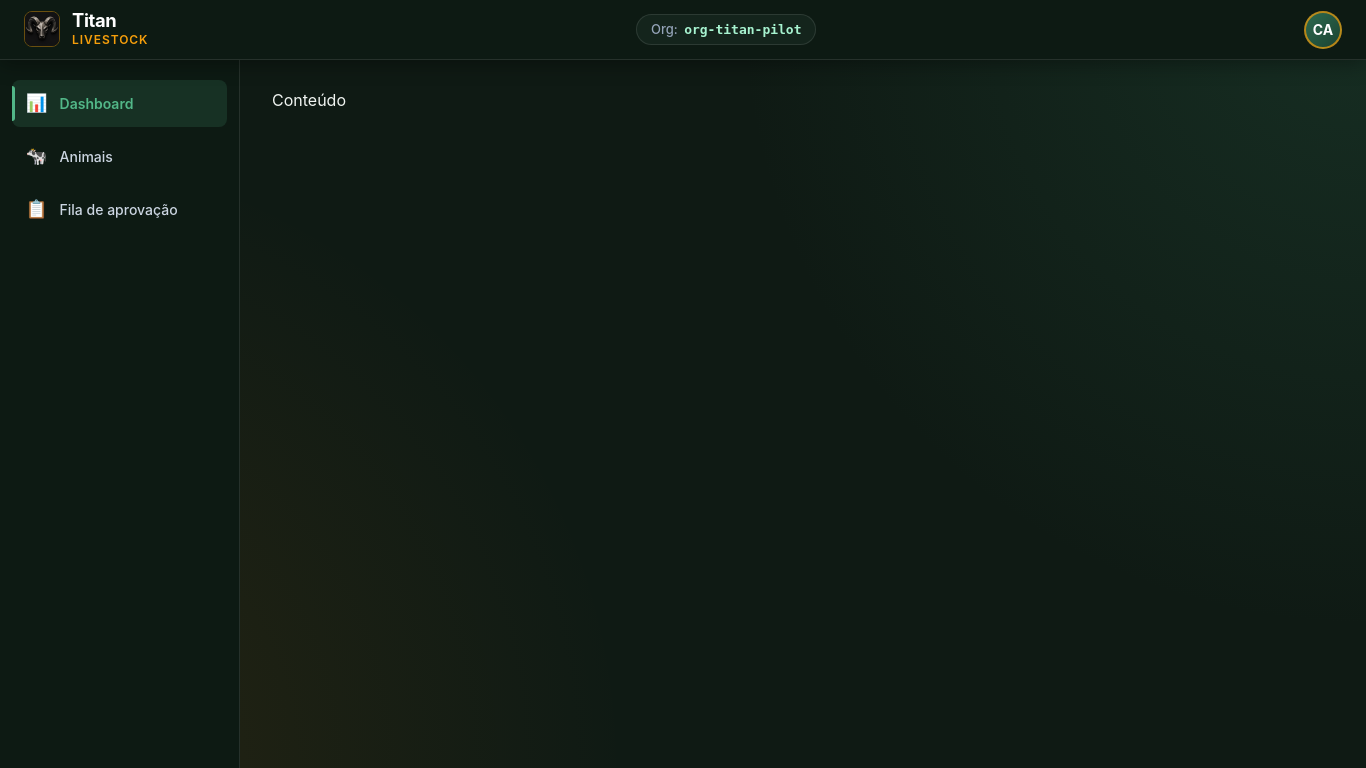
Test case: ApplicationShell › fecha o UserAccountMenu ao pressionar a tecla Escape
The image size is (1366, 768).
Click the button with aria-label "Menu do usuário: Carlos Silva".
click(1323, 30)  # box [1304, 10, 1342, 48]
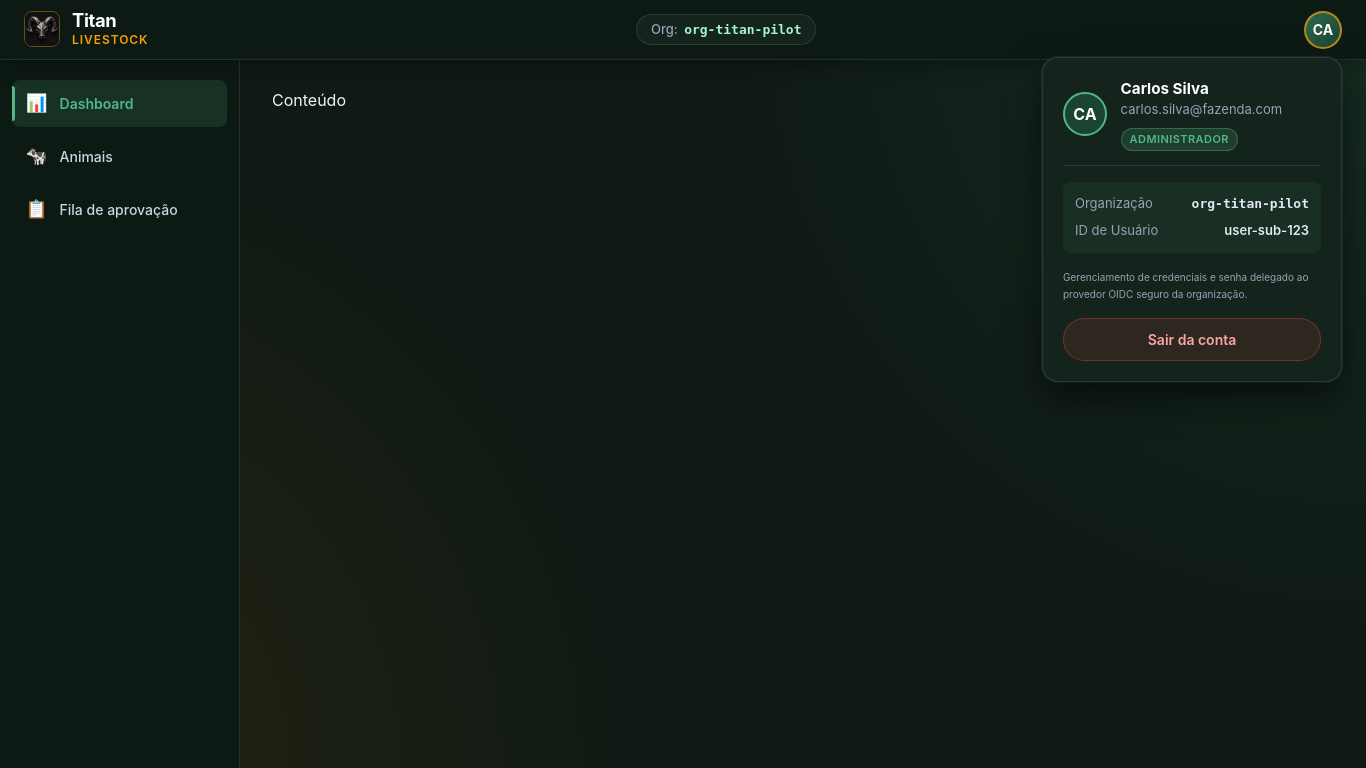
Expected: the menu is shown, [1042, 56, 1342, 382]
# Pressiona Escape
Press Escape
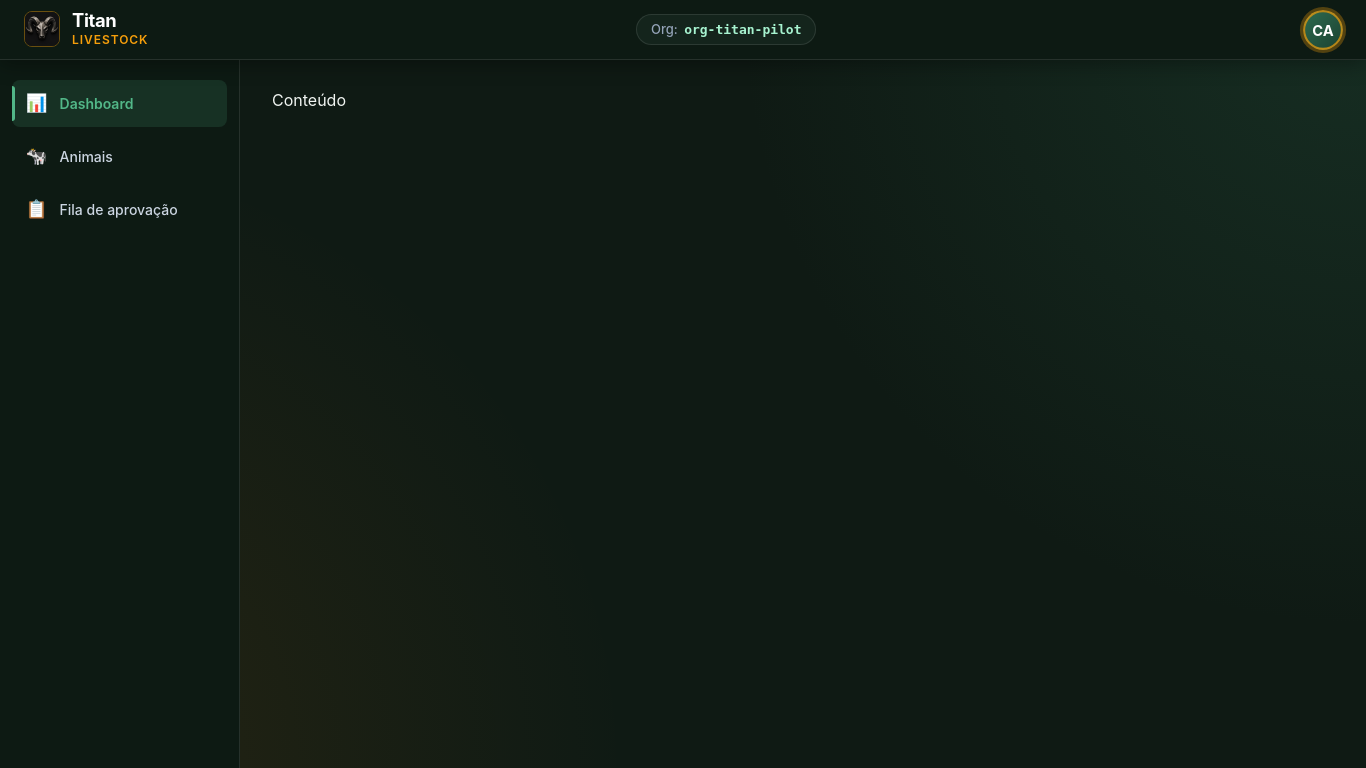
Expected: the menu is gone
